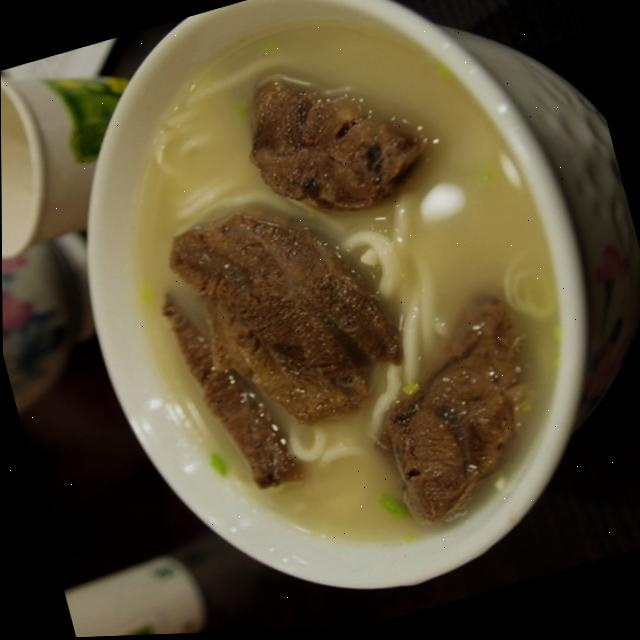面条主食: (18, 0, 640, 639)
